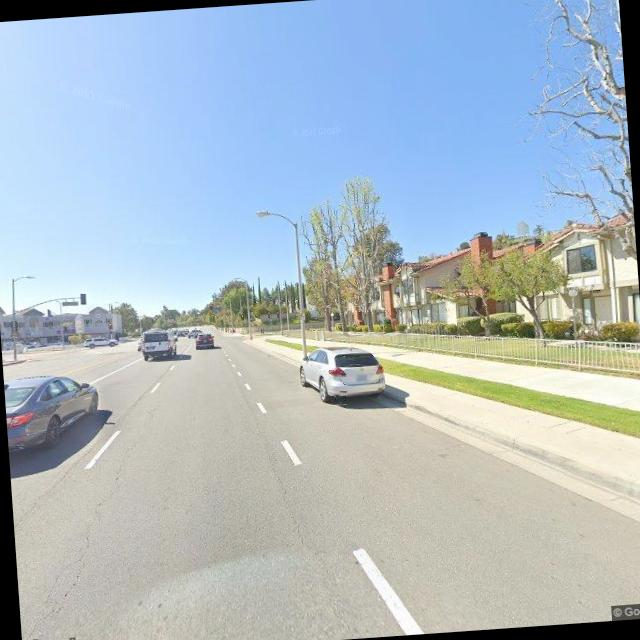pothole: (13, 450, 150, 636), (264, 443, 306, 549)
